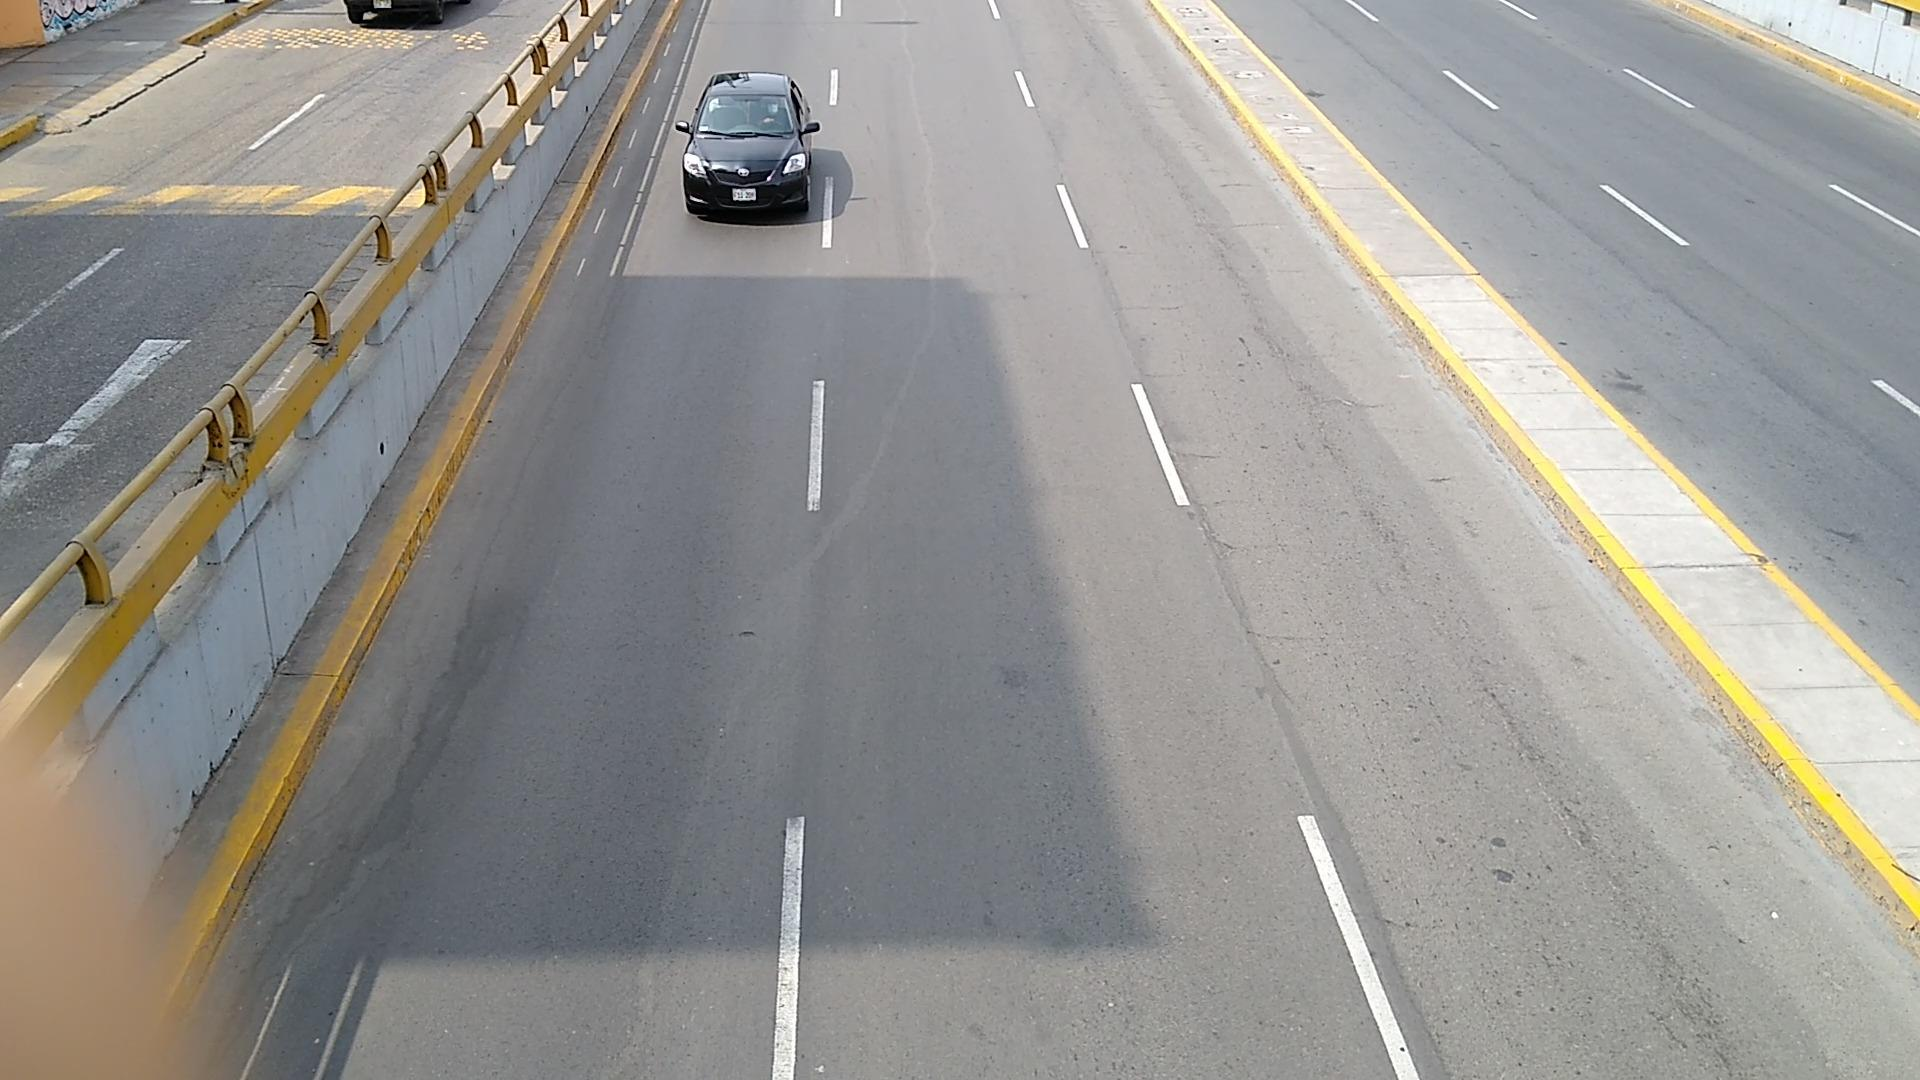car: (675, 71, 822, 214)
